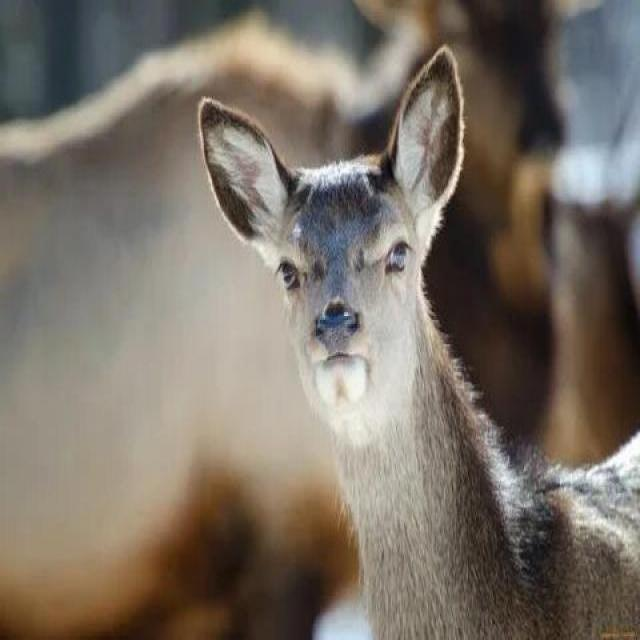deer: (185, 109, 640, 640)
